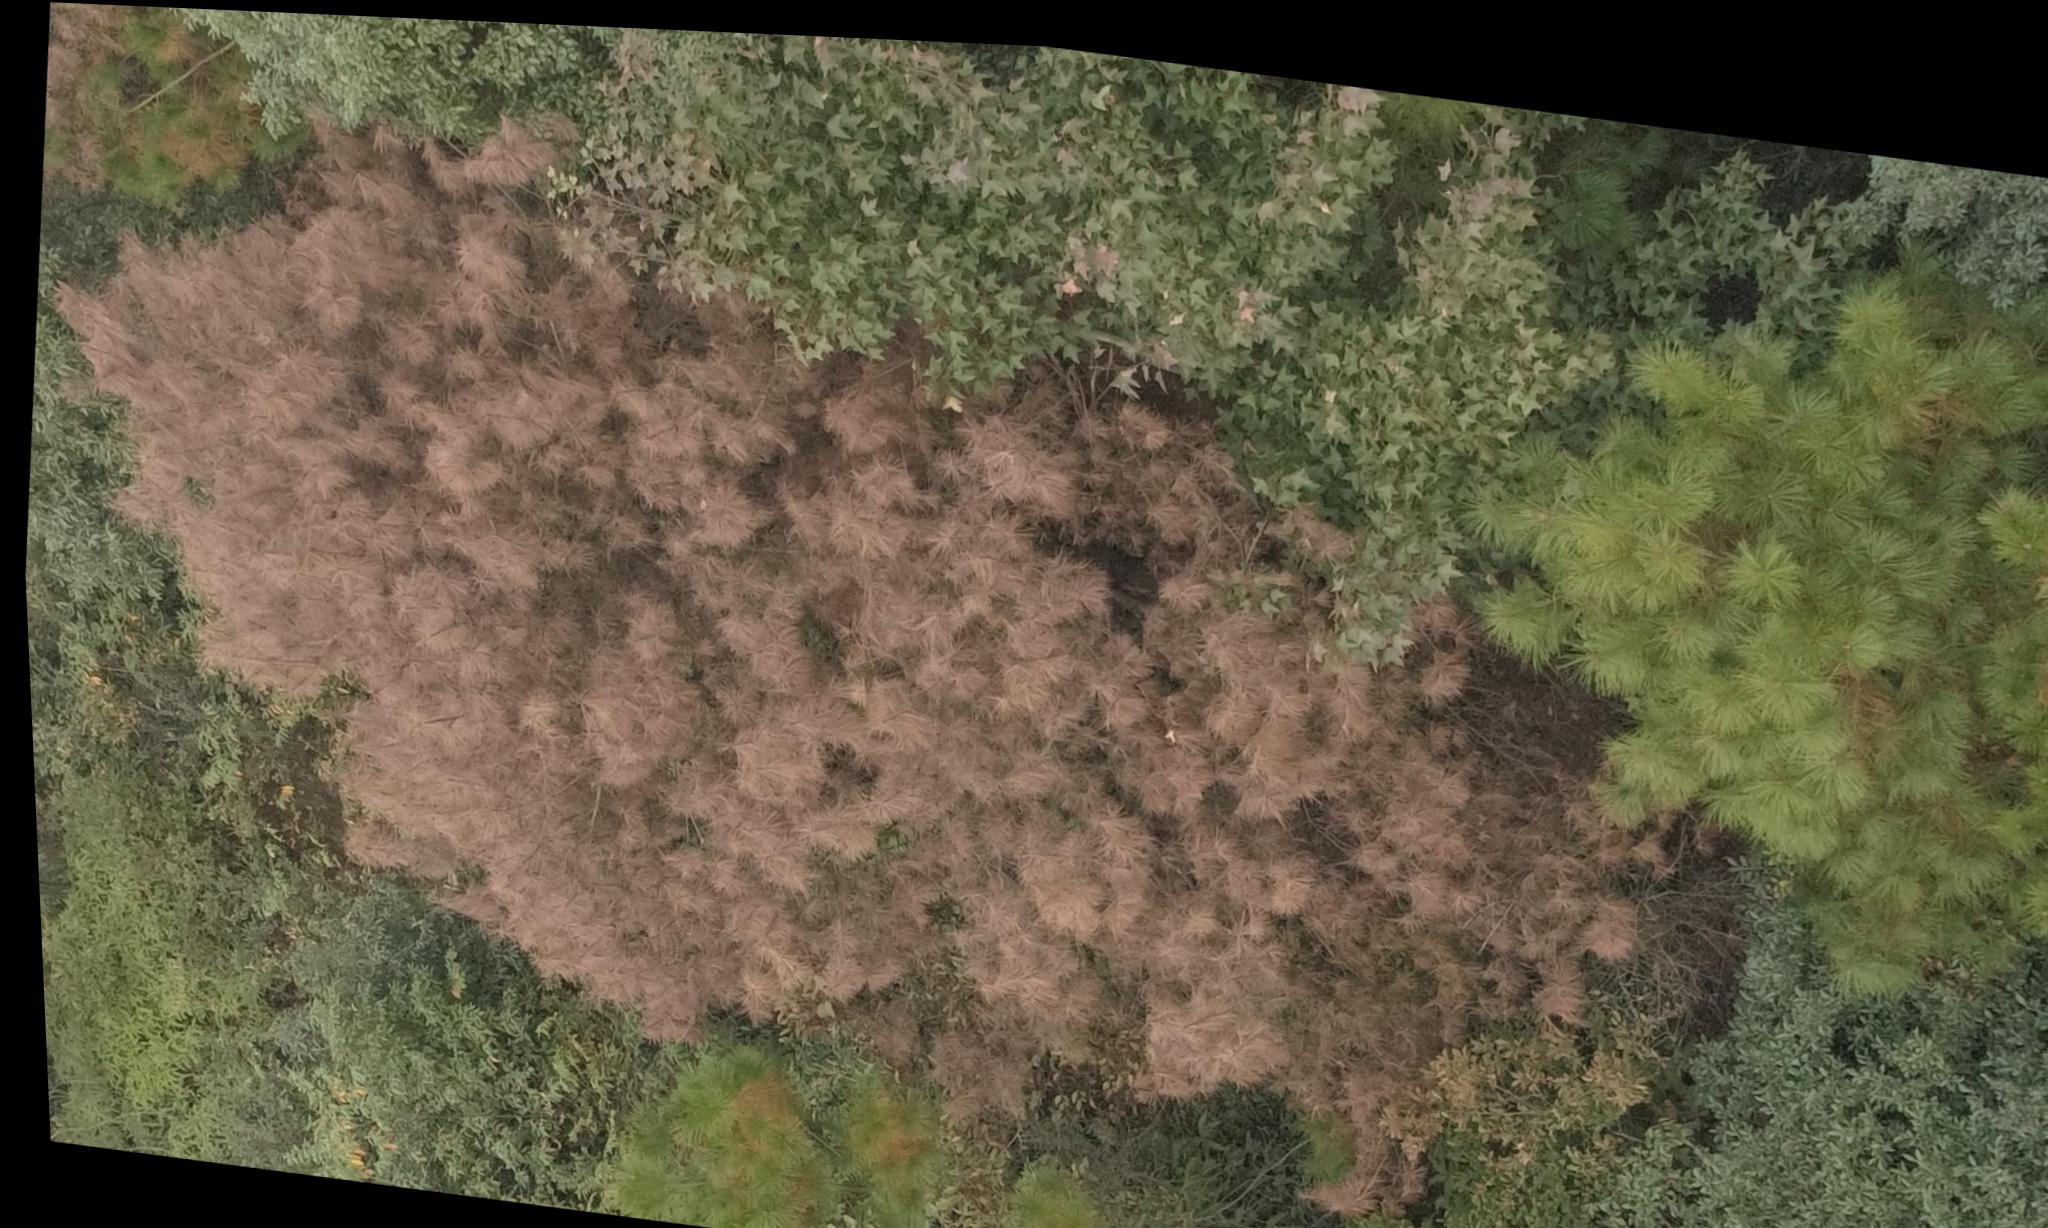heavy: (3, 80, 1481, 1089)
